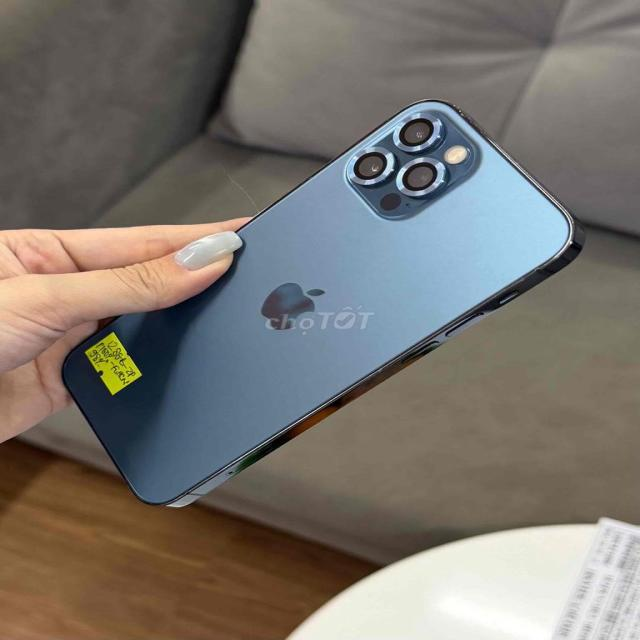gen_12_13: (25, 98, 589, 511)
